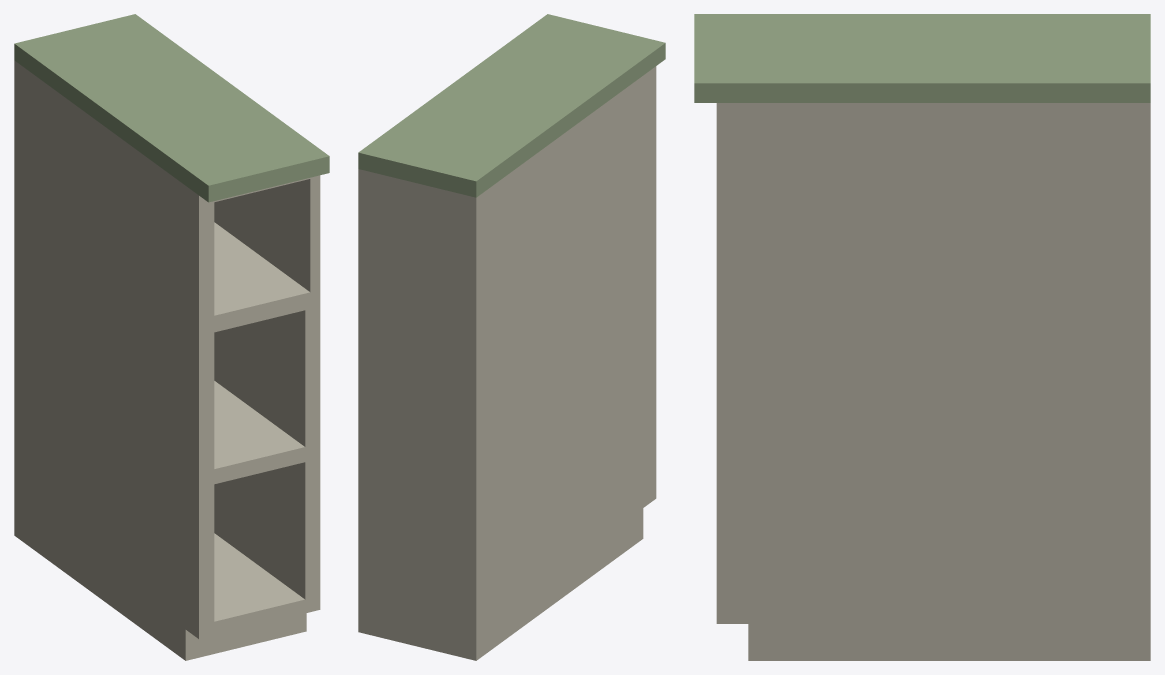
File: KitchenCounter_SideShelf_Bottom_01.fbx
The picture shows the model from 3 angles, left to right: view 1: azimuth 30°, elevation 25°; view 2: azimuth 150°, elevation 25°; view 3: azimuth 270°, elevation 25°; orthographic projection. The views are drawn at different scales.
Parts seen in each view (by area): view 1: KitchenCounter_SideShelf_Bottom_01; view 2: KitchenCounter_SideShelf_Bottom_01; view 3: KitchenCounter_SideShelf_Bottom_01.
Part boxes in pixels (bbox=[...]): KitchenCounter_SideShelf_Bottom_01: bbox=[14, 14, 329, 660]; KitchenCounter_SideShelf_Bottom_01: bbox=[358, 14, 665, 660]; KitchenCounter_SideShelf_Bottom_01: bbox=[694, 14, 1150, 660].
Bounding box in the file's own units: 0.25 × 0.9704 × 0.6946.
